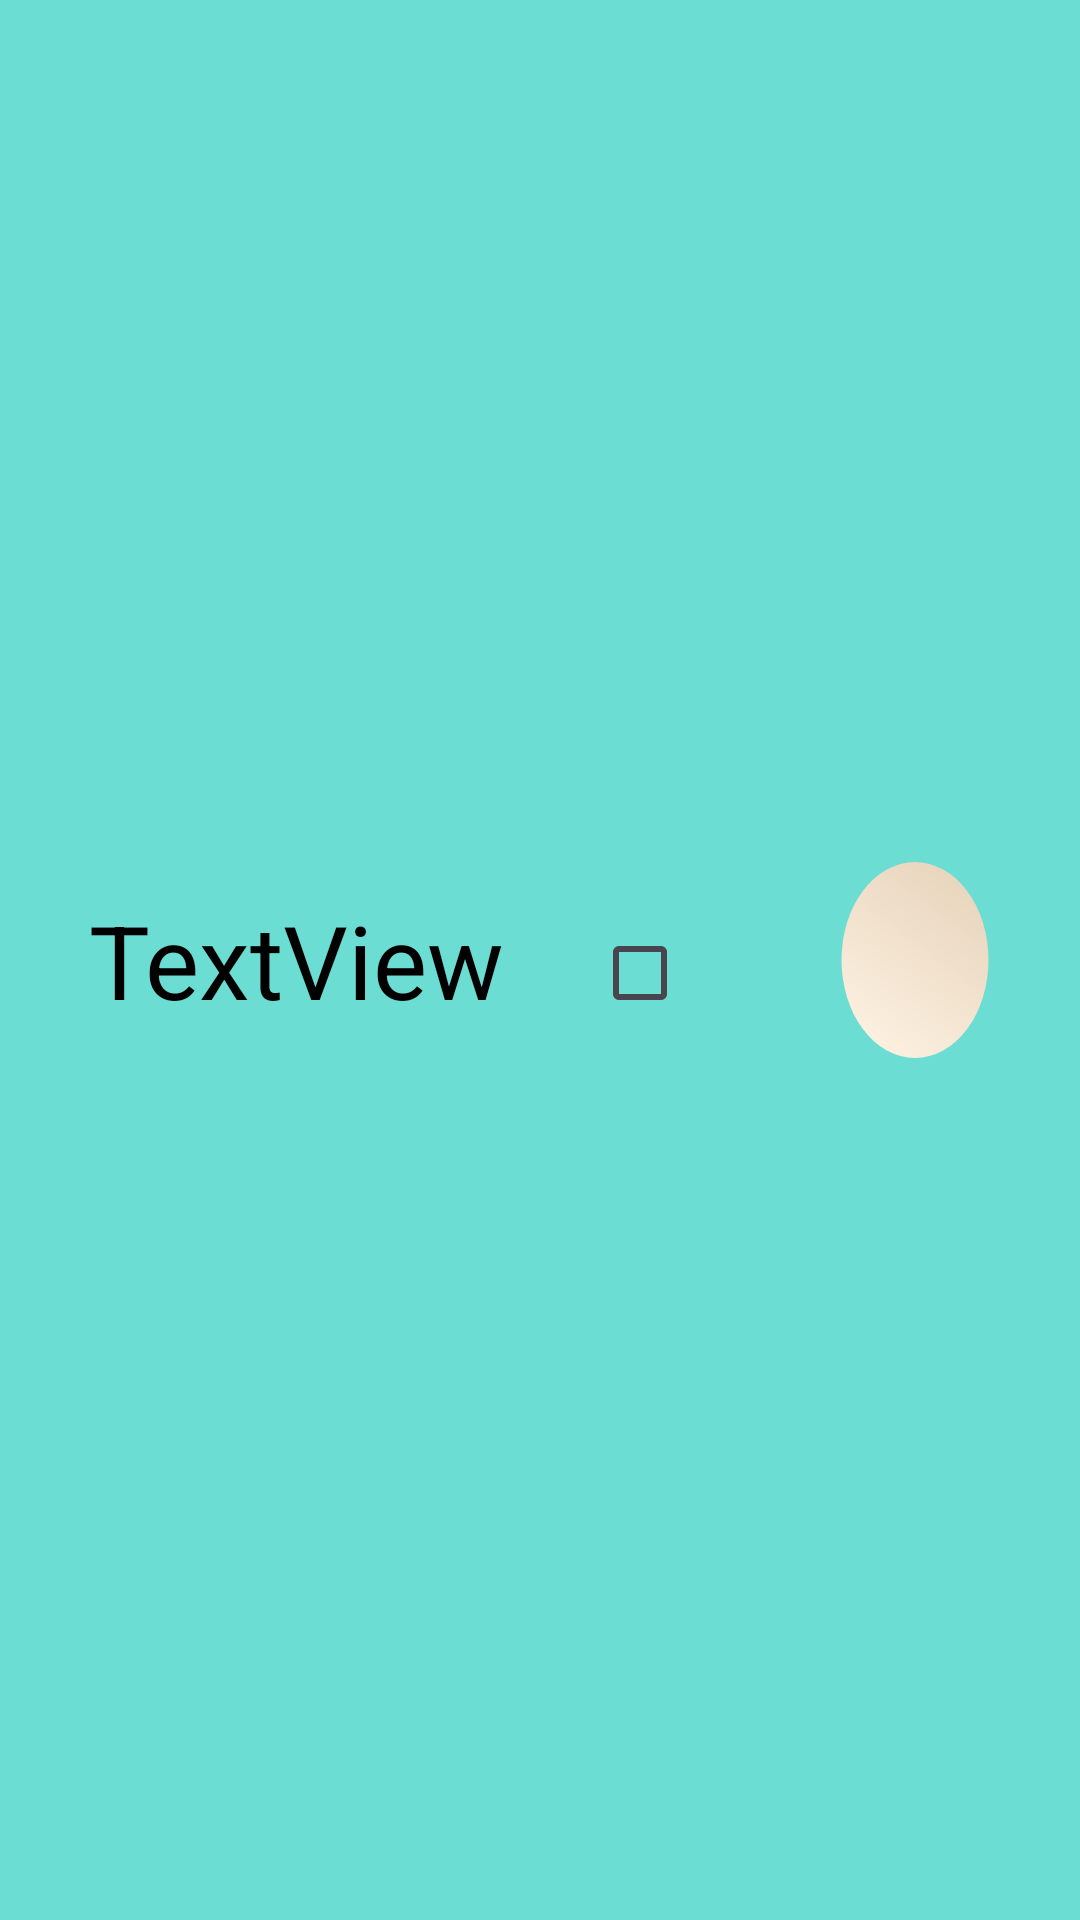

Named icons in this screenshot (1080px x 1920px) and their bounding boxes, [x1,y1,x2,y2]:
egg picture: [841,862,989,1058]
